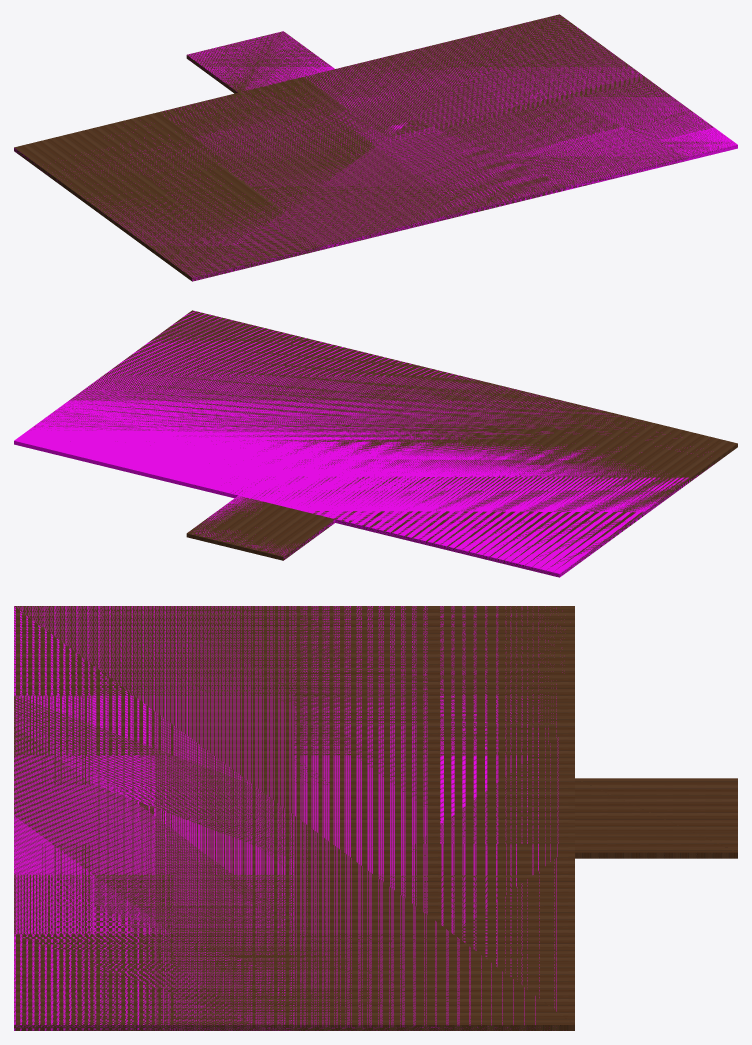
The model's file is lantai.glb.
3 renders of one model, top to bottom at view 1: azimuth 30°, elevation 25°; view 2: azimuth 150°, elevation 25°; view 3: azimuth 270°, elevation 25°, orthographic. The views are drawn at different scales.
Parts seen in each view (by area): view 1: lantai_slab, col_lantai, lantai_atang, col_lantai_atang_0; view 2: col_lantai, lantai_slab, lantai_atang, col_lantai_atang_0; view 3: lantai_slab, col_lantai, lantai_atang.
Boxes of the visible parts, x1=… form: lantai_slab: x1=14, y1=14, x2=731, y2=281; col_lantai: x1=14, y1=15, x2=737, y2=281; lantai_atang: x1=186, y1=31, x2=333, y2=93; col_lantai_atang_0: x1=187, y1=31, x2=334, y2=91; col_lantai: x1=14, y1=311, x2=713, y2=577; lantai_slab: x1=34, y1=310, x2=737, y2=576; lantai_atang: x1=186, y1=496, x2=335, y2=560; col_lantai_atang_0: x1=194, y1=495, x2=335, y2=559; lantai_slab: x1=14, y1=606, x2=574, y2=1030; col_lantai: x1=14, y1=606, x2=562, y2=1030; lantai_atang: x1=575, y1=778, x2=737, y2=858.
Bounding box in the file's own units: 30.4 × 0.2 × 22.2.
2 materials, 1 textured.
